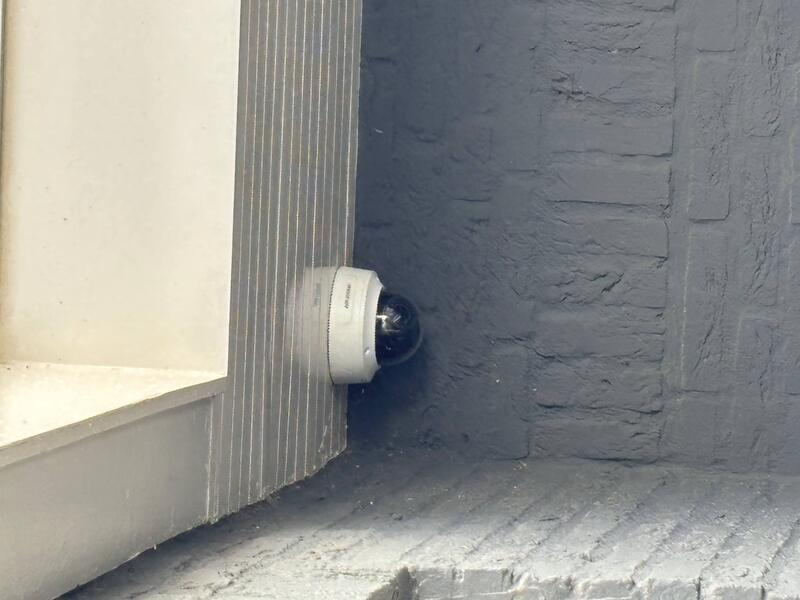dome: (194, 310, 347, 432)
